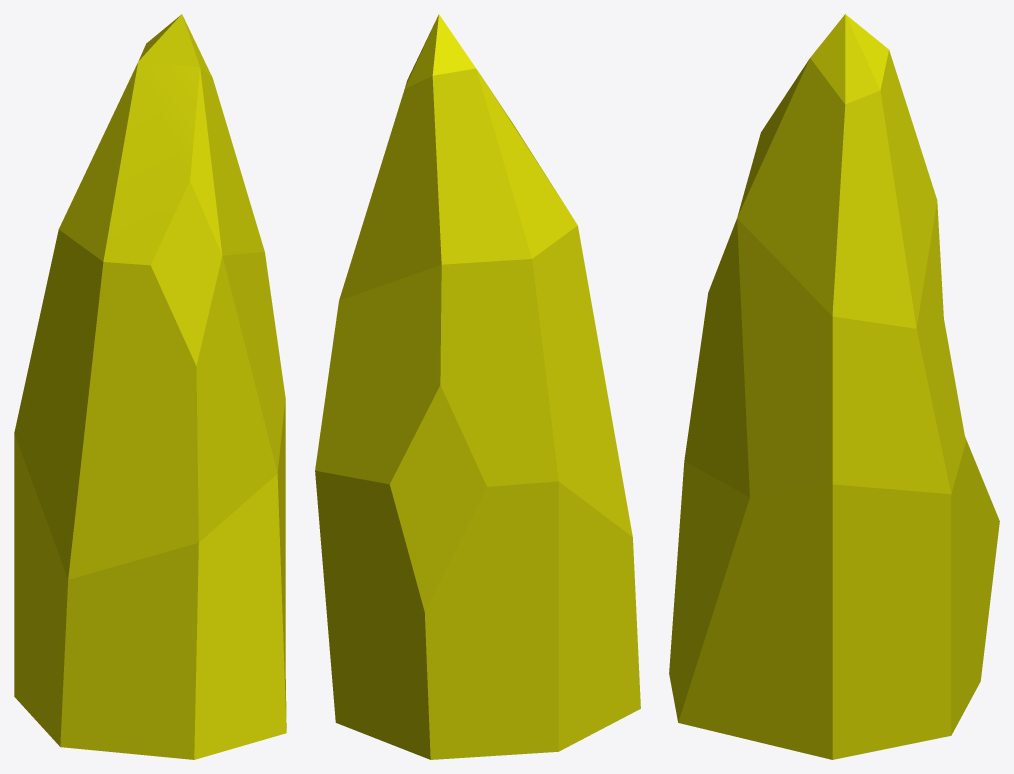
The picture shows the model from 3 angles, left to right: view 1: azimuth 30°, elevation 25°; view 2: azimuth 150°, elevation 25°; view 3: azimuth 270°, elevation 25°; orthographic projection. The views are drawn at different scales.
Visible parts, largest first — view 1: rock1; view 2: rock1; view 3: rock1.
Boxes of the visible parts, x1=… form: rock1: x1=14, y1=14, x2=286, y2=759; rock1: x1=315, y1=14, x2=640, y2=759; rock1: x1=669, y1=14, x2=999, y2=759.
Bounding box in the file's own units: 1.22 × 3.04 × 1.31.
Materials: 1 (1 with a texture image).
